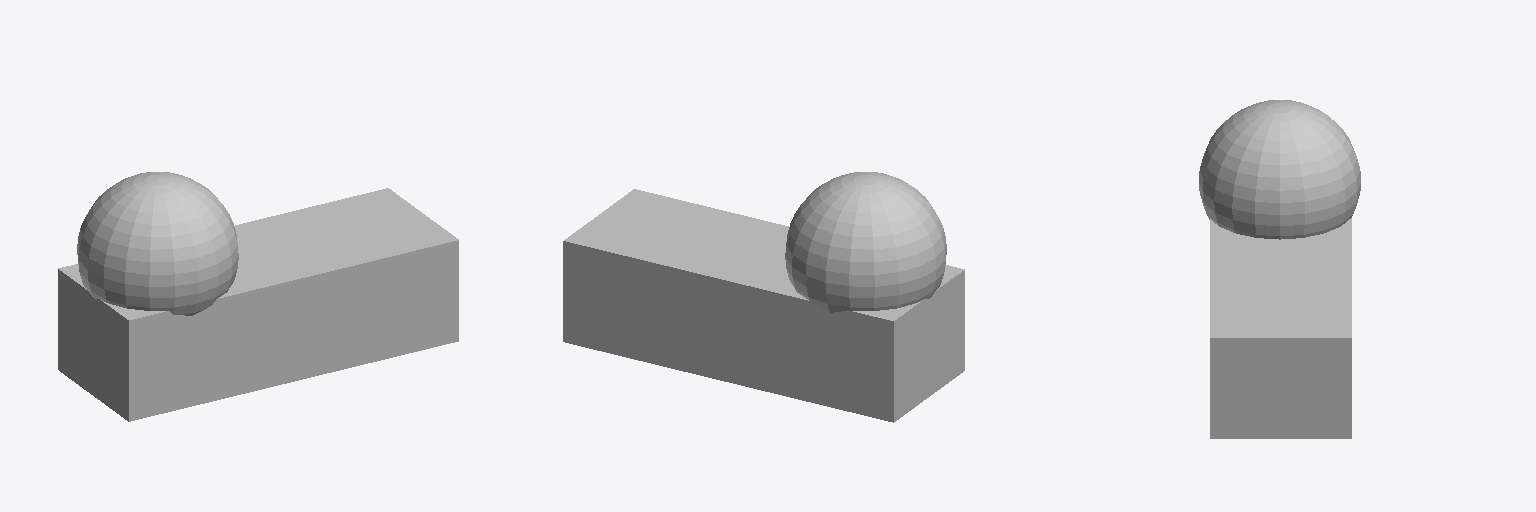
The model's file is rightfoot.obj.
3 views of the same model, side by side, from view 1: azimuth 30°, elevation 25°; view 2: azimuth 150°, elevation 25°; view 3: azimuth 270°, elevation 25° (orthographic).
Parts seen in each view (by area): view 1: pCube9, pSphere6; view 2: pCube9, pSphere6; view 3: pCube9, pSphere6.
Part boxes in pixels (x1,y1,x2,y2): pCube9: (58,188,458,421); pSphere6: (77,172,238,315); pCube9: (563,189,964,422); pSphere6: (785,172,946,312); pCube9: (1210,218,1351,438); pSphere6: (1199,100,1360,239).
Size of the model in its own units: 2.25 by 1.28 by 0.9387.